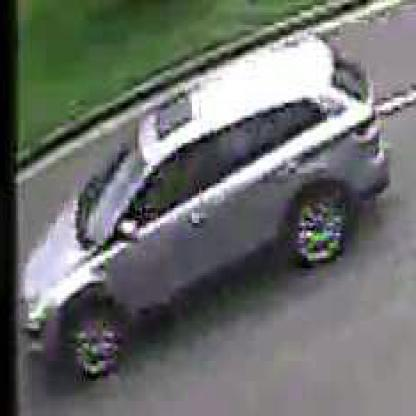car: (16, 39, 391, 382)
